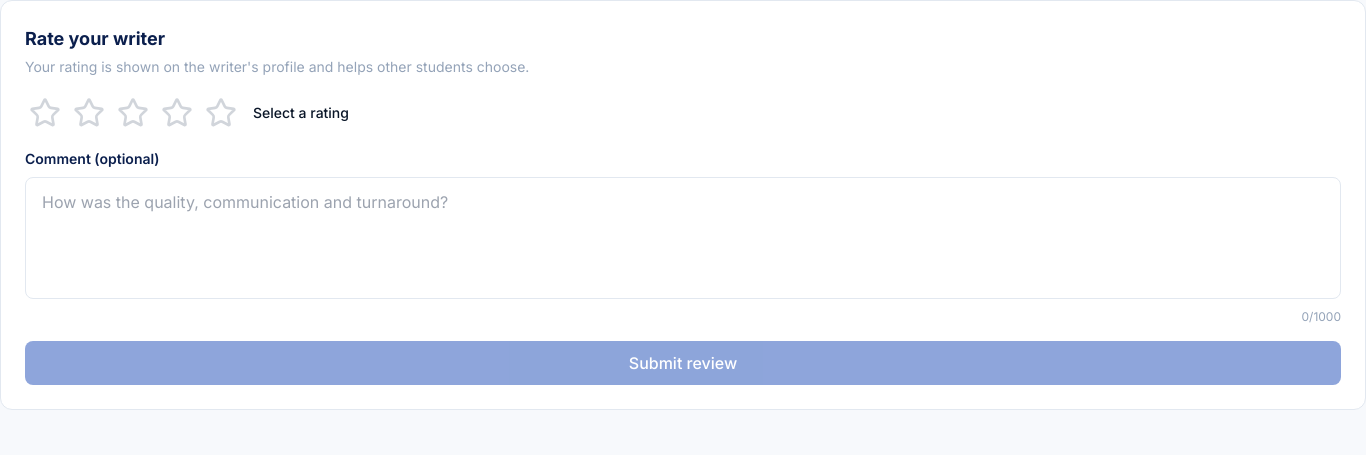
Test case: ReviewForm › surfaces the API error instead of pretending the review saved
This screenshot has width=1366, height=455.
Click the button named "4 stars".
click(177, 113)  # box [157,93,197,133]
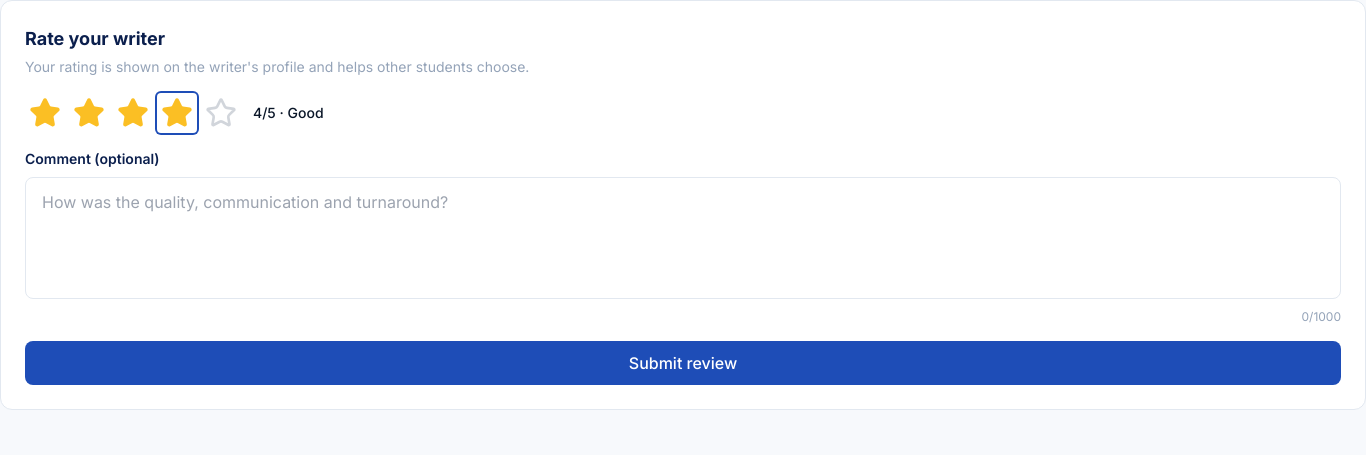
Click the button "Submit review".
click(683, 363)  # box [25,341,1341,385]
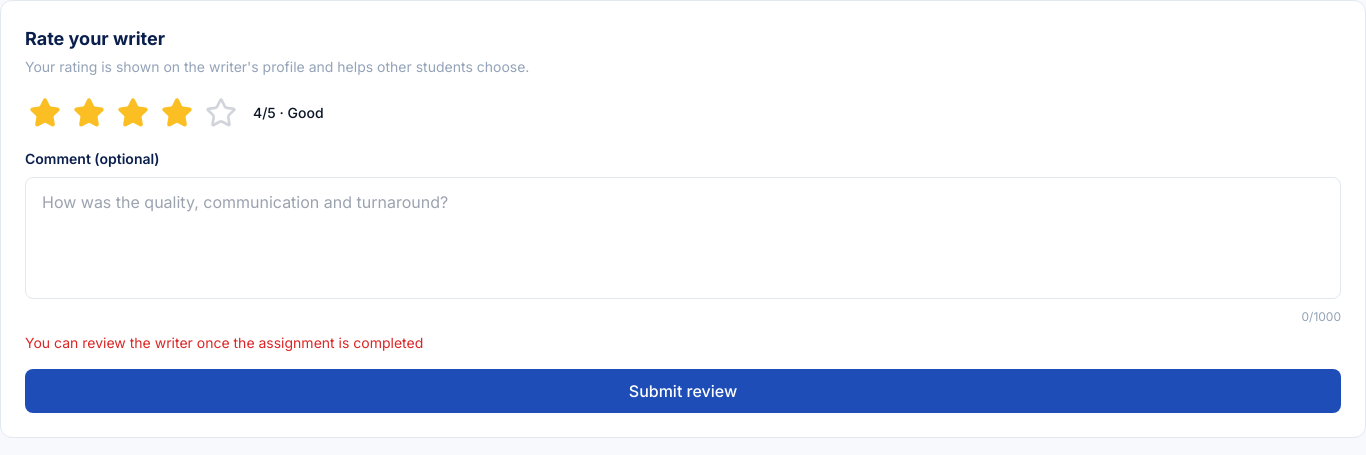
expect the message reads "You can review the writer once the assignment is completed": met, box [25,334,423,351]
